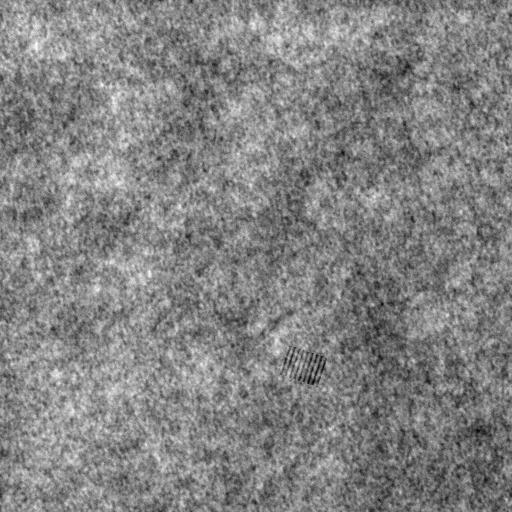impact: (278, 344, 330, 388)
